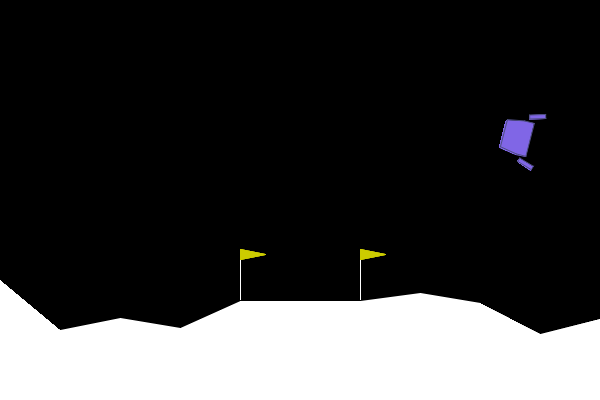lander: (494, 104, 548, 172)
